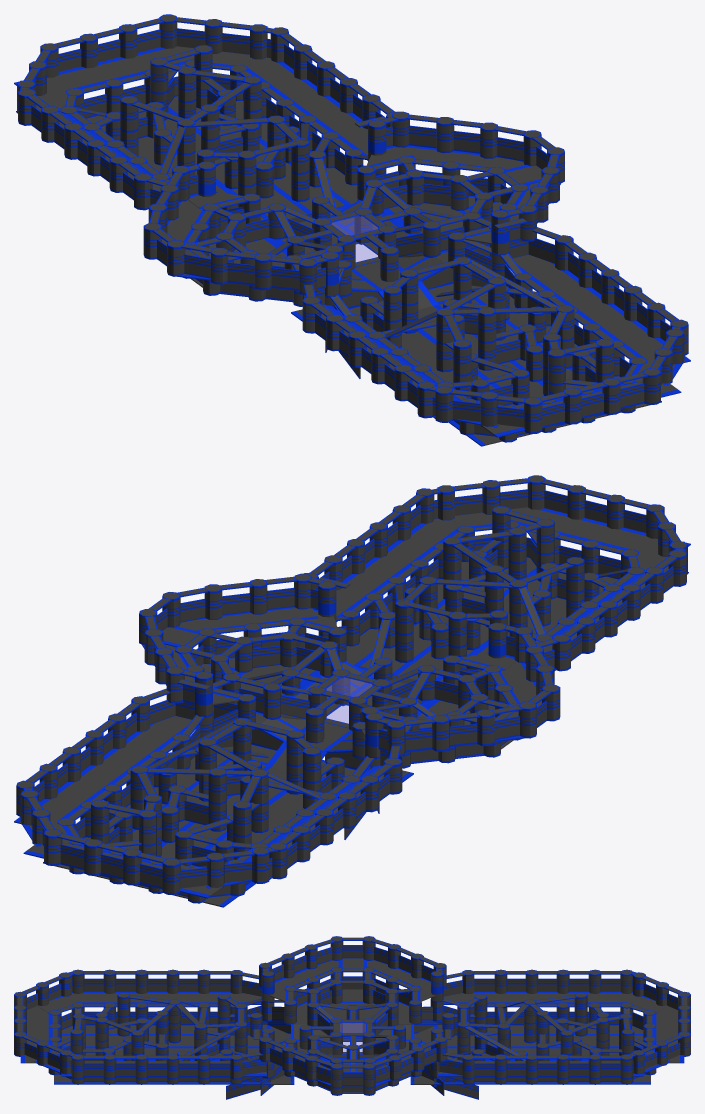
File: Mitchell LVL 2.fbx
The picture shows the model from 3 angles, top to bottom: view 1: azimuth 30°, elevation 25°; view 2: azimuth 150°, elevation 25°; view 3: azimuth 270°, elevation 25°; orthographic projection. The views are drawn at different scales.
Visible parts, largest first — view 1: polySurface203, polySurface371, pCube20, polySurface68, pCube57, polySurface59, polySurface80, polySurface152, polySurface163, polySurface20, polySurface11, pCube55 (+4 smaller); view 2: polySurface371, polySurface203, polySurface163, pCube20, polySurface59, polySurface154, pCube57, polySurface68, polySurface7, polySurface19, polySurface12, pCube53 (+6 smaller); view 3: polySurface203, polySurface371, polySurface163, pCube20, polySurface68, polySurface59, pCube57, pCube35, pCube53, pCube55, polySurface80, polySurface7 (+21 smaller).
Part boxes in pixels (box(x1,y1,x2,y2)): polySurface203: box(291, 218, 690, 446); polySurface371: box(14, 14, 395, 244); pCube20: box(313, 208, 396, 269); polySurface68: box(186, 193, 260, 255); pCube57: box(143, 222, 185, 276); polySurface59: box(220, 260, 351, 306); polySurface80: box(181, 243, 228, 284); polySurface152: box(402, 145, 524, 169); polySurface163: box(530, 154, 559, 222); polySurface20: box(227, 207, 272, 246); polySurface11: box(268, 203, 315, 242); pCube55: box(162, 200, 204, 245); polySurface371: box(14, 679, 413, 907); polySurface203: box(304, 475, 690, 705); polySurface163: box(177, 579, 267, 622); pCube20: box(308, 669, 390, 730); polySurface59: box(443, 655, 518, 717); polySurface154: box(178, 607, 318, 631); pCube57: box(518, 684, 560, 738); polySurface68: box(352, 721, 483, 768); polySurface7: box(477, 705, 522, 746); polySurface19: box(431, 669, 476, 708); polySurface12: box(388, 665, 435, 704); pCube53: box(499, 661, 541, 706); polySurface203: box(14, 969, 329, 1099); polySurface371: box(373, 969, 690, 1099); polySurface163: box(282, 1046, 333, 1083); pCube20: box(330, 1018, 375, 1054); polySurface68: box(371, 970, 421, 1024); polySurface59: box(284, 970, 334, 1024); pCube57: box(330, 936, 375, 960); pCube35: box(320, 1001, 385, 1022); pCube53: box(274, 960, 338, 986); pCube55: box(367, 960, 430, 986); polySurface80: box(305, 939, 335, 969); polySurface7: box(371, 939, 400, 968).
Bounding box in the file's own units: 136 × 33.3 × 293.
